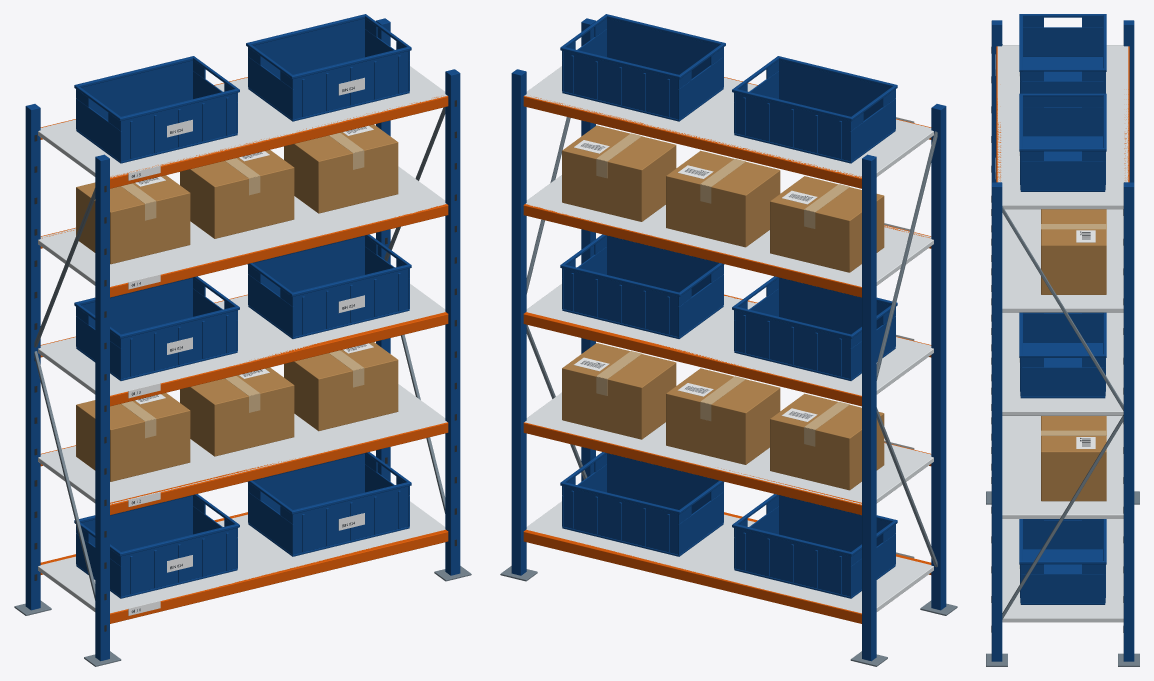
Rendered from shelving_1800.glb.
The picture shows the model from 3 angles, left to right: view 1: azimuth 30°, elevation 25°; view 2: azimuth 150°, elevation 25°; view 3: azimuth 270°, elevation 25°; orthographic projection. The views are drawn at different scales.
Parts seen in each view (by area): view 1: Shelf deck.003, Shelf deck.001, Shelf deck.004, Rack upright.002, Rack upright.001, Shelf deck.002, Rack upright, Shelf deck, Sealed carton.002, Sealed carton.005, Sealed carton.003, Sealed carton.006 (+28 smaller); view 2: Shelf deck.004, Rack upright.003, Rack upright, Sealed carton.002, Sealed carton.003, Sealed carton.005, Sealed carton.006, Rack upright.001, Shelf deck.002, Shelf deck, Sealed carton.004, Sealed carton.001 (+28 smaller); view 3: Shelf deck.004, Shelf deck.001, Shelf deck.003, Rack upright.002, Rack upright.003, Shelf deck, Shelf deck.002, Sealed carton.006, Sealed carton.003, End below handle.015, End below handle.007, End below handle.011 (+26 smaller).
Part boxes in pixels (x1=…): Shelf deck.003: x1=38, y1=166, x2=446, y2=286; Shelf deck.001: x1=38, y1=384, x2=447, y2=504; Shelf deck.004: x1=38, y1=66, x2=447, y2=177; Rack upright.002: x1=445, y1=69, x2=460, y2=575; Rack upright.001: x1=25, y1=104, x2=40, y2=610; Shelf deck.002: x1=38, y1=284, x2=445, y2=395; Rack upright: x1=95, y1=154, x2=109, y2=661; Shelf deck: x1=38, y1=501, x2=445, y2=613; Sealed carton.002: x1=180, y1=367, x2=294, y2=456; Sealed carton.005: x1=180, y1=150, x2=294, y2=238; Sealed carton.003: x1=284, y1=342, x2=398, y2=431; Sealed carton.006: x1=284, y1=124, x2=398, y2=213; Shelf deck.004: x1=524, y1=66, x2=933, y2=177; Rack upright.003: x1=511, y1=69, x2=526, y2=575; Rack upright: x1=931, y1=104, x2=946, y2=610; Sealed carton.002: x1=666, y1=368, x2=780, y2=464; Sealed carton.003: x1=562, y1=343, x2=676, y2=439; Sealed carton.005: x1=666, y1=150, x2=780, y2=247; Sealed carton.006: x1=562, y1=125, x2=676, y2=221; Rack upright.001: x1=862, y1=154, x2=876, y2=661; Shelf deck.002: x1=526, y1=284, x2=933, y2=395; Shelf deck: x1=526, y1=501, x2=933, y2=613; Sealed carton.004: x1=770, y1=176, x2=884, y2=272; Sealed carton.001: x1=770, y1=393, x2=884, y2=490; Shelf deck.004: x1=997, y1=45, x2=1128, y2=209; Shelf deck.001: x1=1002, y1=416, x2=1123, y2=518; Shelf deck.003: x1=1002, y1=209, x2=1123, y2=312; Rack upright.002: x1=991, y1=182, x2=1002, y2=661; Rack upright.003: x1=1123, y1=182, x2=1134, y2=661; Shelf deck: x1=1002, y1=519, x2=1123, y2=622; Shelf deck.002: x1=1002, y1=312, x2=1123, y2=415; Sealed carton.006: x1=1041, y1=209, x2=1106, y2=294; Sealed carton.003: x1=1041, y1=416, x2=1106, y2=501; End below handle.015: x1=1020, y1=160, x2=1105, y2=190; End below handle.007: x1=1020, y1=573, x2=1105, y2=603; End below handle.011: x1=1020, y1=367, x2=1105, y2=396.
Size of the model in its own units: 1.88 by 2.51 by 0.702.
